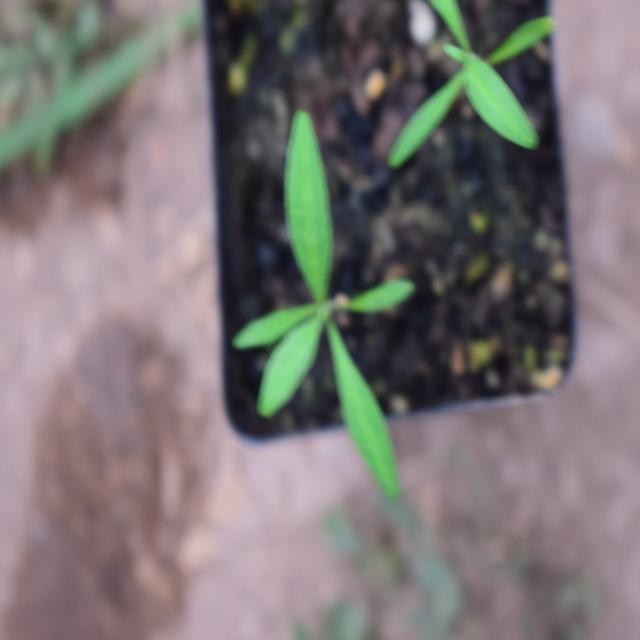white_smart_weed: (217, 99, 417, 467)
